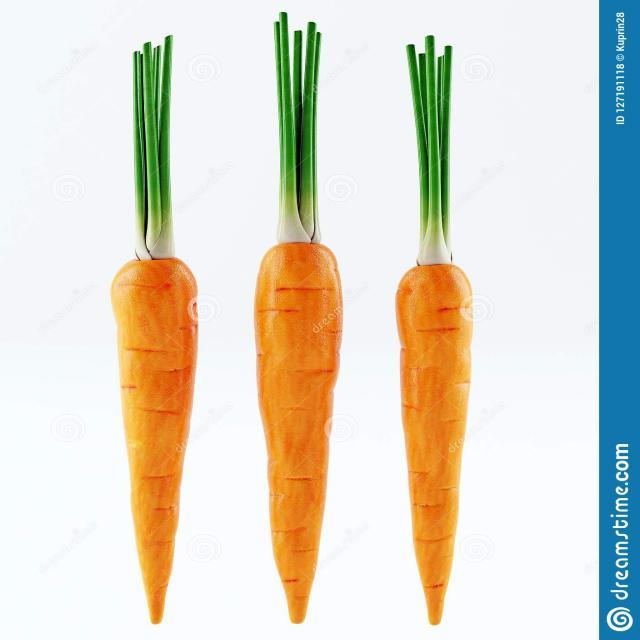Carrot: (105, 33, 204, 630), (260, 9, 336, 626), (396, 42, 462, 622)
